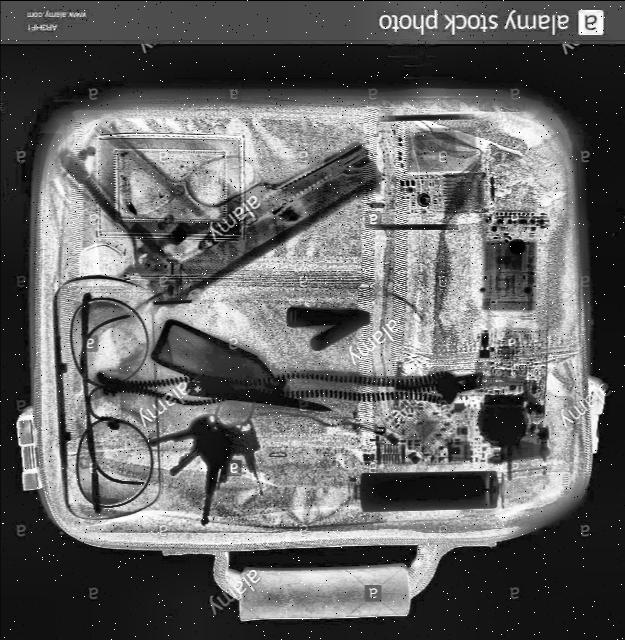Gun: (60, 122, 380, 306)
